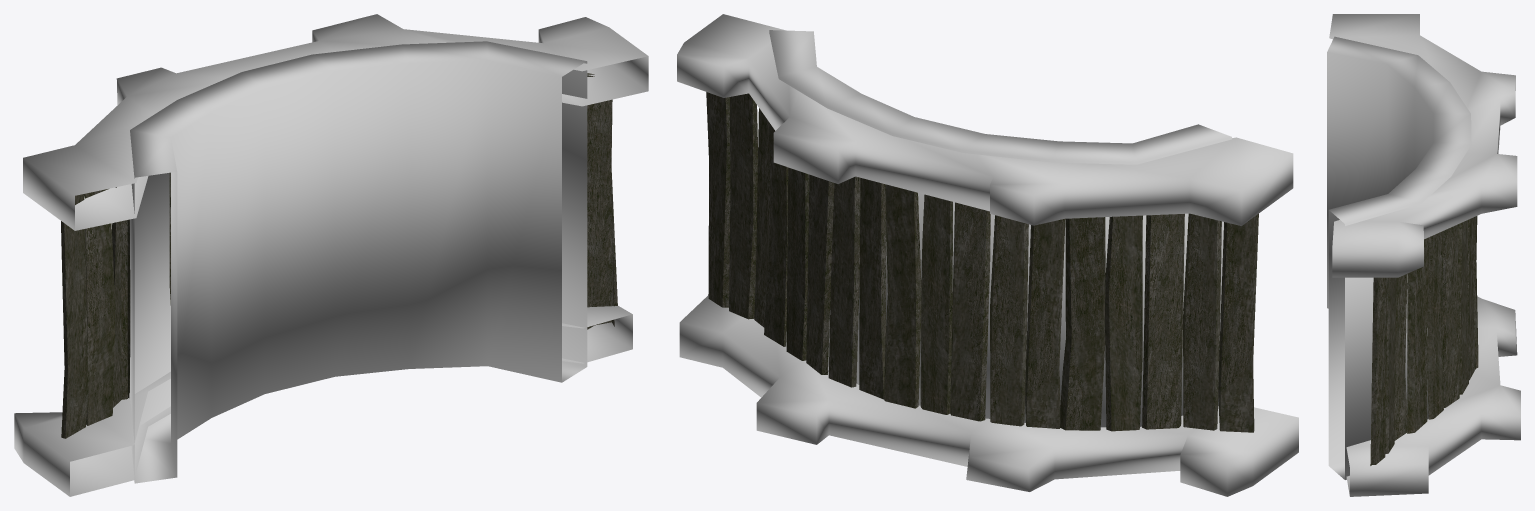
Rendered from TI_Small_StoneBridge_01_LOD_01.fbx.
3 views of the same model, side by side, from view 1: azimuth 30°, elevation 25°; view 2: azimuth 150°, elevation 25°; view 3: azimuth 270°, elevation 25° (orthographic). The views are drawn at different scales.
Visible parts, largest first — view 1: TI_Small_StoneBridge_01_LOD_01, TI_Small_StoneBridge_Wood_01_LOD_01; view 2: TI_Small_StoneBridge_Wood_01_LOD_01, TI_Small_StoneBridge_01_LOD_01; view 3: TI_Small_StoneBridge_01_LOD_01, TI_Small_StoneBridge_Wood_01_LOD_01.
Boxes of the visible parts, box(x1,y1,x2,y2) form: TI_Small_StoneBridge_01_LOD_01: box(14, 14, 648, 496); TI_Small_StoneBridge_Wood_01_LOD_01: box(61, 73, 617, 438); TI_Small_StoneBridge_Wood_01_LOD_01: box(706, 92, 1258, 432); TI_Small_StoneBridge_01_LOD_01: box(677, 14, 1298, 496); TI_Small_StoneBridge_01_LOD_01: box(1327, 14, 1520, 496); TI_Small_StoneBridge_Wood_01_LOD_01: box(1370, 216, 1478, 465).
Size of the model in its own units: 8 by 4.04 by 2.77.
